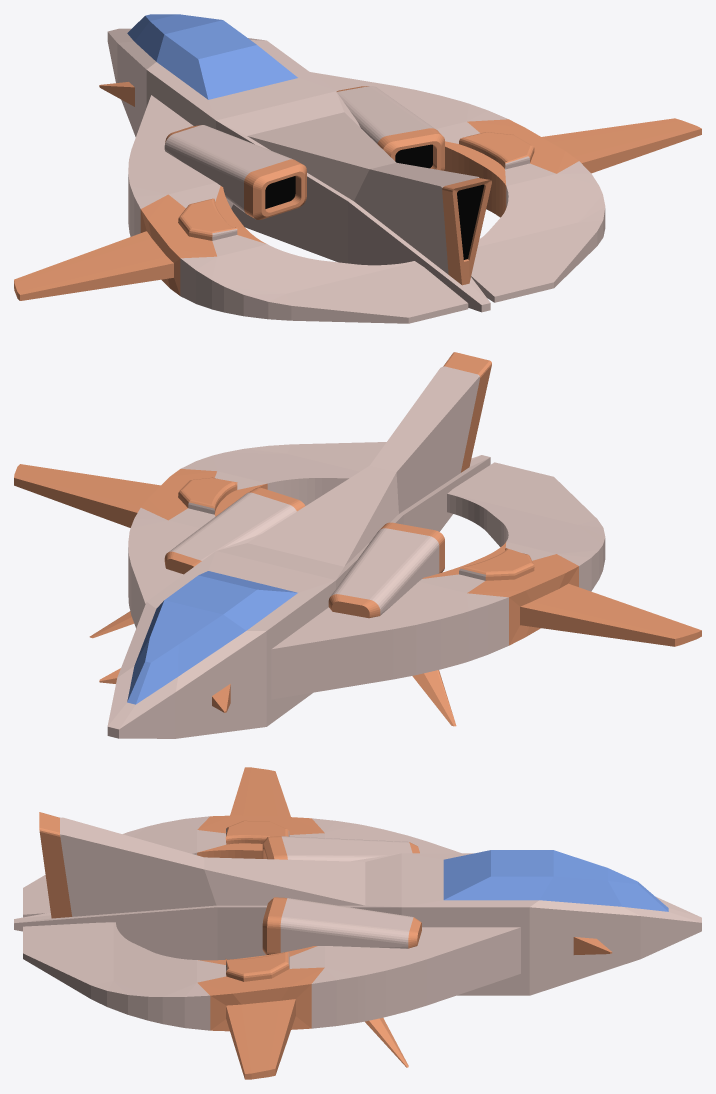
3 views of the same model, one above another, from view 1: azimuth 30°, elevation 25°; view 2: azimuth 150°, elevation 25°; view 3: azimuth 270°, elevation 25° (orthographic). The views are drawn at different scales.
Parts seen in each view (by area): view 1: Cube.001, Cube; view 2: Cube, Cube.001; view 3: Cube, Cube.001.
Part boxes in pixels (x1=…): Cube.001: x1=14, y1=72, x2=701, y2=323; Cube: x1=99, y1=14, x2=491, y2=312; Cube: x1=99, y1=352, x2=491, y2=738; Cube.001: x1=14, y1=442, x2=701, y2=726; Cube: x1=14, y1=812, x2=701, y2=995; Cube.001: x1=23, y1=767, x2=520, y2=1079.
Bounding box in the file's own units: 136 × 34.03 × 128.
